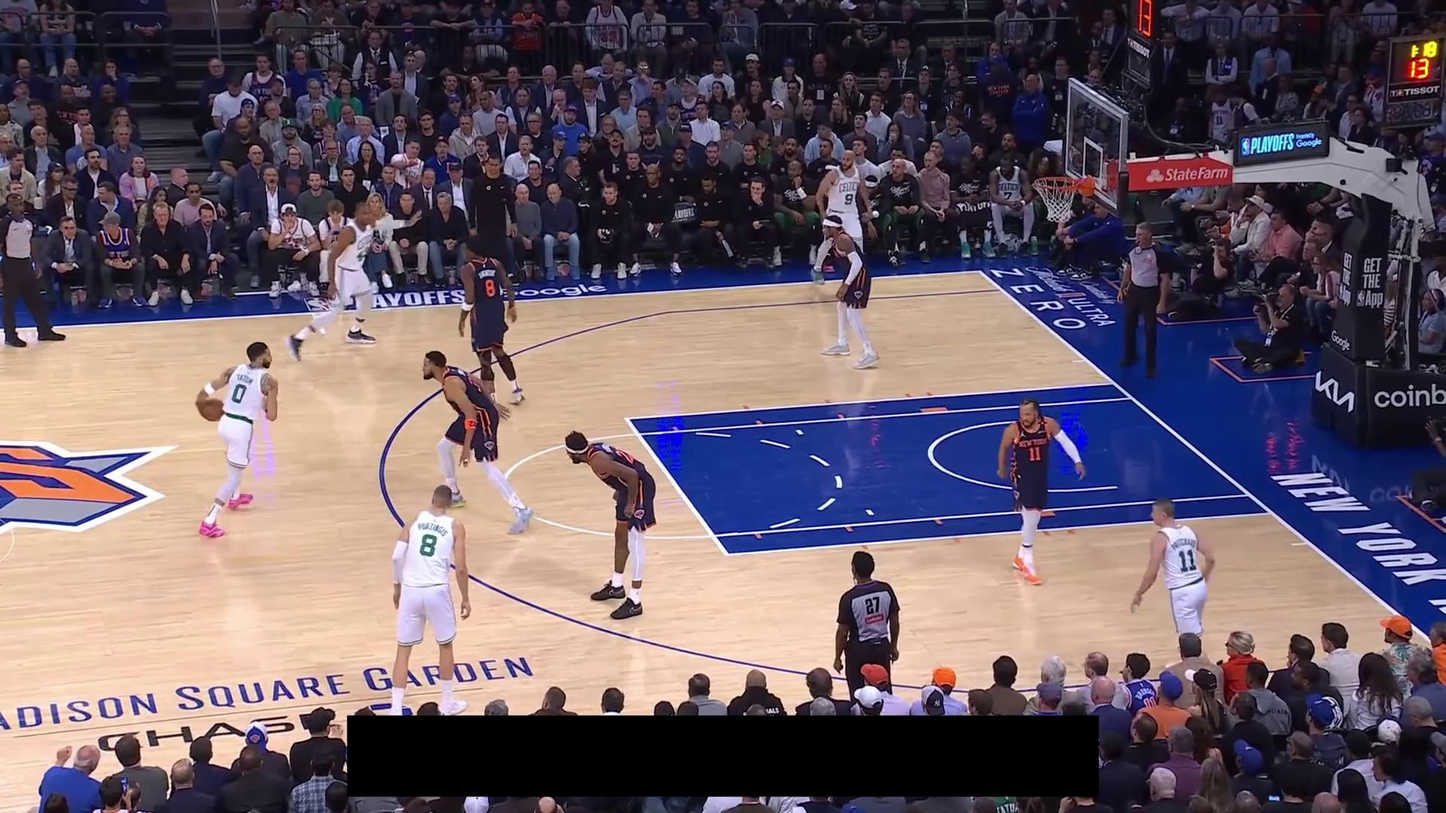ball: (198, 397, 224, 422)
number: (1178, 548, 1197, 573), (419, 533, 438, 557), (231, 383, 247, 404), (1028, 445, 1042, 463), (484, 279, 496, 297), (843, 192, 854, 206)
player: (282, 198, 423, 364), (420, 348, 537, 537), (386, 483, 473, 717), (561, 427, 662, 621), (996, 395, 1087, 586), (1127, 495, 1219, 666), (455, 236, 528, 408), (816, 213, 880, 371), (810, 148, 877, 288)
player-in-possession: (195, 340, 281, 538)
referee: (0, 193, 67, 348), (834, 549, 901, 702), (1116, 221, 1171, 379)
rim: (1033, 175, 1080, 191)
